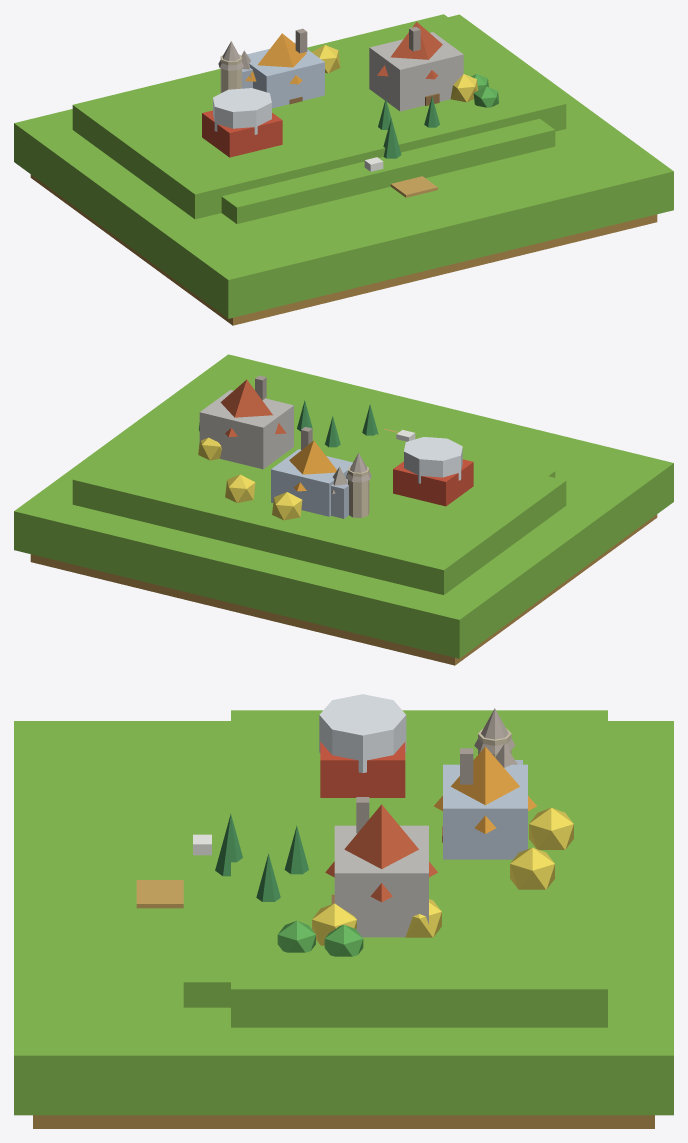
File: SimulationVillage.fbx
3 views of the same model, one above another, from view 1: azimuth 30°, elevation 25°; view 2: azimuth 150°, elevation 25°; view 3: azimuth 270°, elevation 25° (orthographic). The views are drawn at different scales.
Parts seen in each view (by area): view 1: Terrain_Main, Hill_Back, Hill_FrontL, Hill_FrontR, HouseB_Wall, Terrain_Edge, HouseA_Wall, Barn_Body, Barn_Roof, HouseA_Roof, HouseB_Roof, Path_Main (+3 smaller); view 2: Terrain_Main, Hill_Back, HouseB_Wall, Terrain_Edge, HouseA_Wall, Barn_Body, Barn_Roof, HouseB_Roof, HouseA_Roof, Silo_Body, Hill_FrontL, Tree_Y3 (+3 smaller); view 3: Terrain_Main, Hill_Back, Terrain_Edge, HouseB_Wall, Hill_FrontR, HouseA_Wall, Hill_FrontL, Barn_Roof, Barn_Body, HouseB_Roof, HouseA_Roof, Tree_Y2 (+10 smaller).
Boxes of the visible parts, left/top/right/bottom form: Terrain_Main: left=14, top=14, right=673, bottom=318; Hill_Back: left=72, top=14, right=566, bottom=219; Hill_FrontL: left=221, top=157, right=395, bottom=223; Hill_FrontR: left=381, top=118, right=555, bottom=182; HouseB_Wall: left=369, top=32, right=463, bottom=111; Terrain_Edge: left=30, top=174, right=657, bottom=325; HouseA_Wall: left=247, top=42, right=324, bottom=108; Barn_Body: left=202, top=110, right=282, bottom=157; Barn_Roof: left=213, top=88, right=271, bottom=134; HouseA_Roof: left=245, top=33, right=306, bottom=84; HouseB_Roof: left=377, top=21, right=442, bottom=79; Path_Main: left=390, top=176, right=437, bottom=197; Terrain_Main: left=14, top=354, right=673, bottom=658; Hill_Back: left=72, top=390, right=566, bottom=594; HouseB_Wall: left=199, top=390, right=293, bottom=469; Terrain_Edge: left=30, top=514, right=657, bottom=665; HouseA_Wall: left=271, top=449, right=352, bottom=516; Barn_Body: left=393, top=459, right=473, bottom=506; Barn_Roof: left=404, top=437, right=462, bottom=483; HouseB_Roof: left=220, top=379, right=286, bottom=437; HouseA_Roof: left=289, top=440, right=336, bottom=491; Silo_Body: left=348, top=466, right=369, bottom=517; Hill_FrontL: left=390, top=432, right=555, bottom=477; Tree_Y3: left=272, top=492, right=302, bottom=520; Terrain_Main: left=14, top=721, right=673, bottom=1115; Hill_Back: left=231, top=710, right=607, bottom=1027; Terrain_Edge: left=33, top=1115, right=654, bottom=1128; HouseB_Wall: left=334, top=825, right=428, bottom=937; Hill_FrontR: left=183, top=862, right=230, bottom=1007; HouseA_Wall: left=443, top=764, right=527, bottom=859; Hill_FrontL: left=183, top=743, right=230, bottom=862; Barn_Roof: left=319, top=694, right=406, bottom=772; Barn_Body: left=320, top=742, right=405, bottom=797; HouseB_Roof: left=325, top=804, right=437, bottom=902; HouseA_Roof: left=434, top=746, right=536, bottom=833; Tree_Y2: left=510, top=847, right=554, bottom=889.
Size of the model in its own units: 8.4 by 2.68 by 7.
